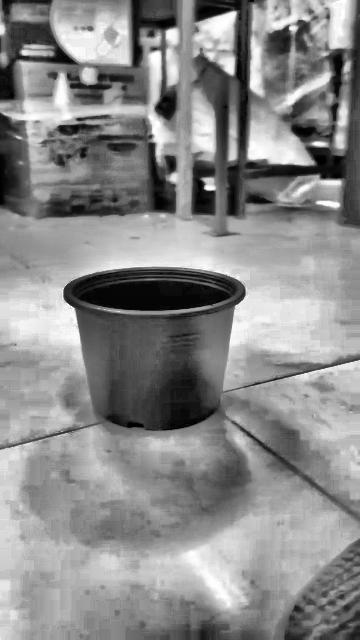pot: (64, 267, 245, 431)
